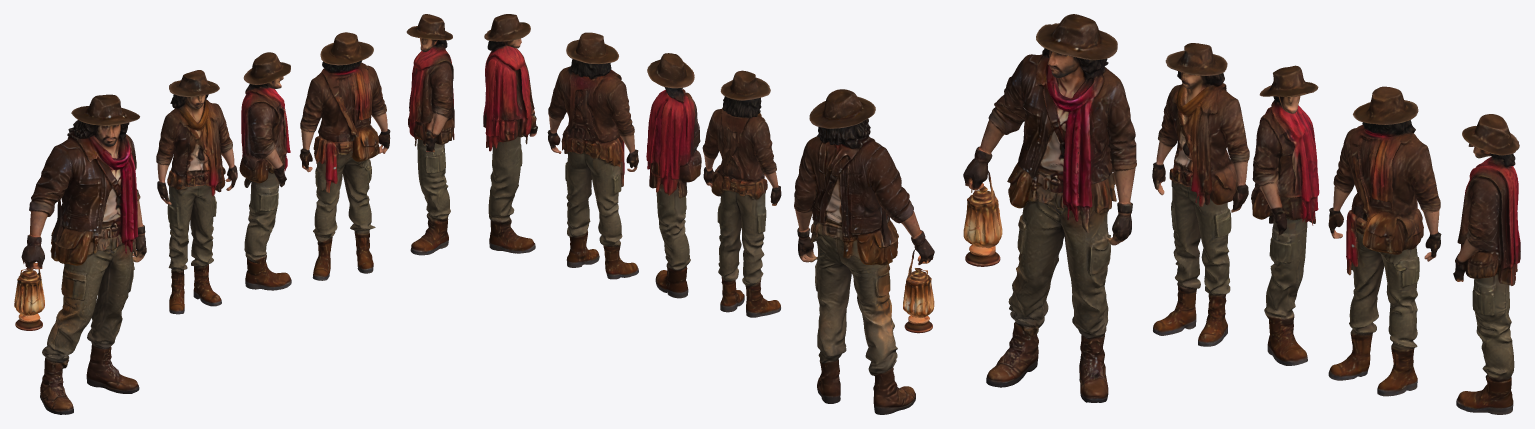
Rendered from base_basic_pbr.glb.
3 views of the same model, side by side, from view 1: azimuth 30°, elevation 25°; view 2: azimuth 150°, elevation 25°; view 3: azimuth 330°, elevation 25° (orthographic). The views are drawn at different scales.
Parts seen in each view (by area): view 1: model; view 2: model; view 3: model.
Boxes of the visible parts, x1,y1,x2,y2 form: model: (14,14,454,414); model: (483,14,934,414); model: (963,14,1520,414).
Bounding box in the file's own units: 1.81 × 1.17 × 0.2409.
1 material, 1 textured.
